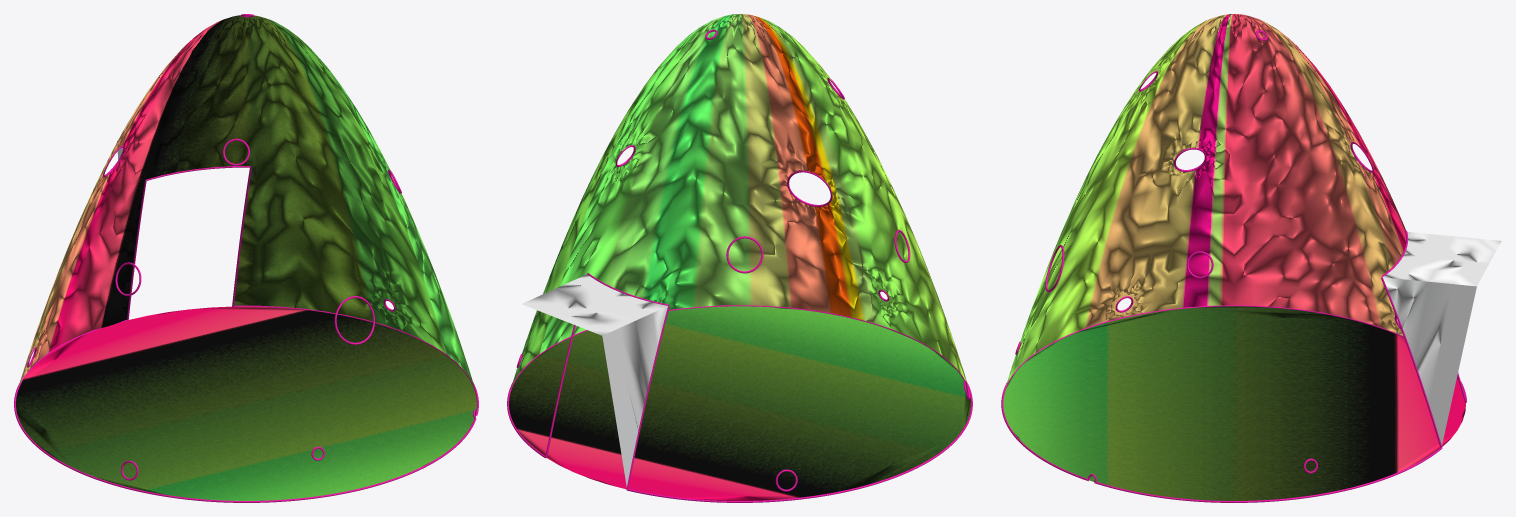
3 views of the same model, side by side, from view 1: azimuth 30°, elevation 25°; view 2: azimuth 150°, elevation 25°; view 3: azimuth 270°, elevation 25° (orthographic).
Parts seen in each view (by area): view 1: Solids, Solids_2, Openings; view 2: Solids, Solids_2, Canopy, Openings, Canopy_2; view 3: Solids, Solids_2, Canopy, Openings, Canopy_2.
Boxes of the visible parts, x1,y1,x2,y2 form: Solids: [16, 15, 476, 500]; Solids_2: [16, 16, 476, 500]; Openings: [14, 14, 478, 502]; Solids: [509, 14, 970, 500]; Solids_2: [509, 14, 970, 500]; Canopy: [522, 274, 667, 487]; Openings: [507, 29, 972, 502]; Canopy_2: [522, 276, 667, 485]; Solids: [1003, 14, 1465, 500]; Solids_2: [1004, 14, 1465, 500]; Canopy: [1382, 232, 1501, 444]; Openings: [1001, 30, 1466, 502]; Canopy_2: [1383, 232, 1501, 445].
Size of the model in its own units: 13.86 by 12.66 by 14.88.
Materials: 3 (3 with a texture image).
